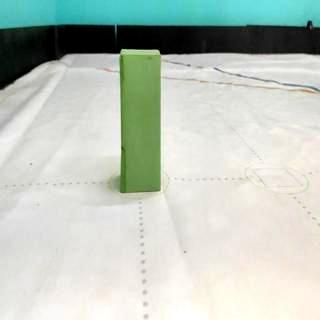greenbox: (120, 49, 162, 192)
